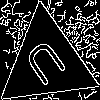U: (21, 37, 74, 96)
